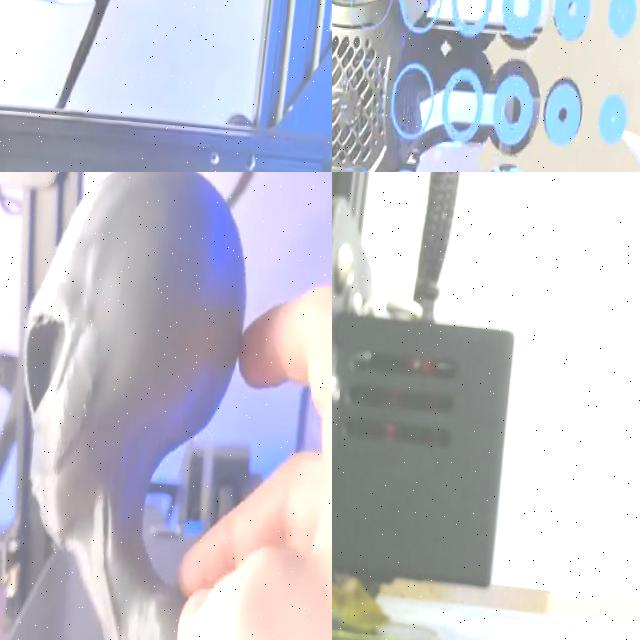spaghetti: (332, 577, 390, 632)
